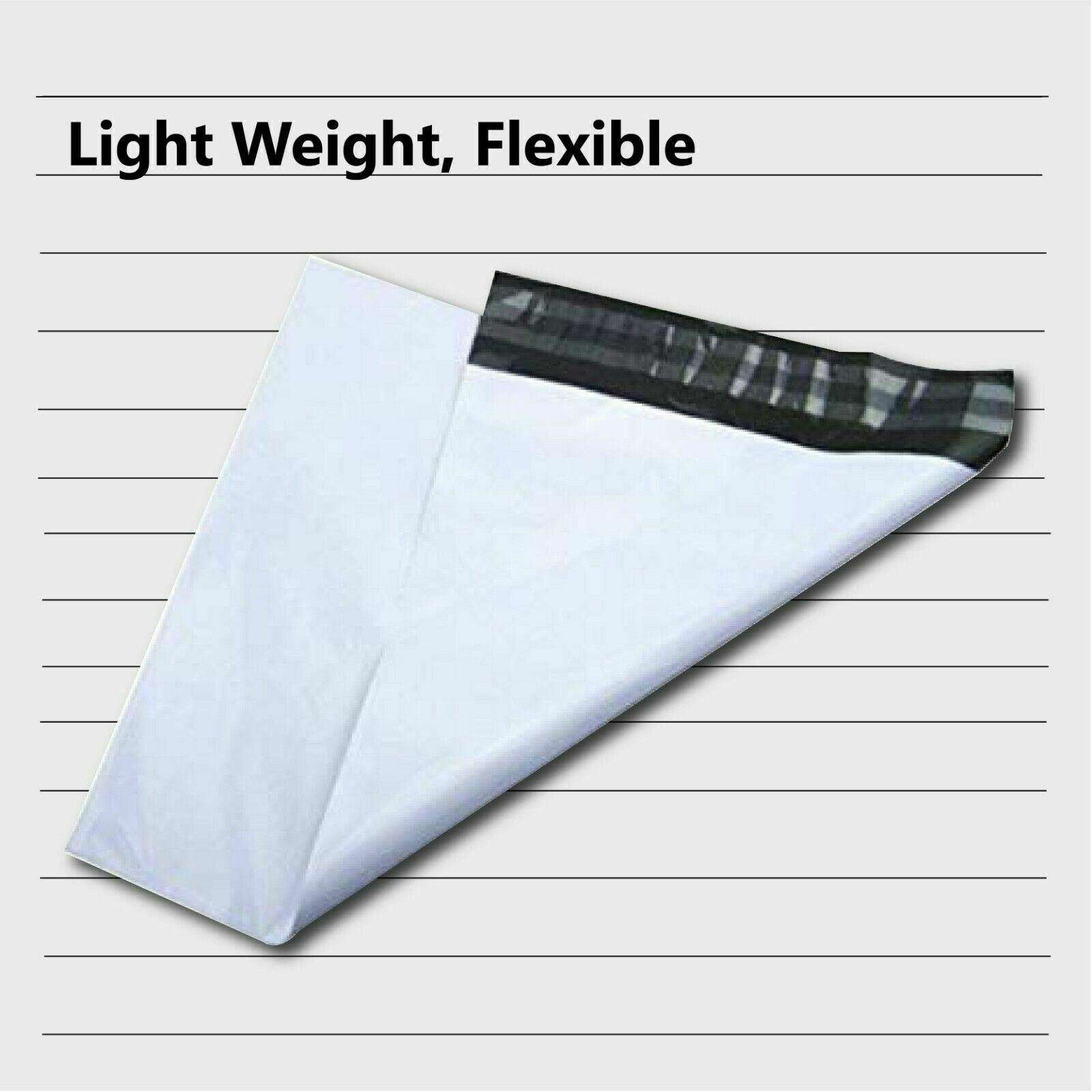塑料袋: (69, 261, 1019, 945)
